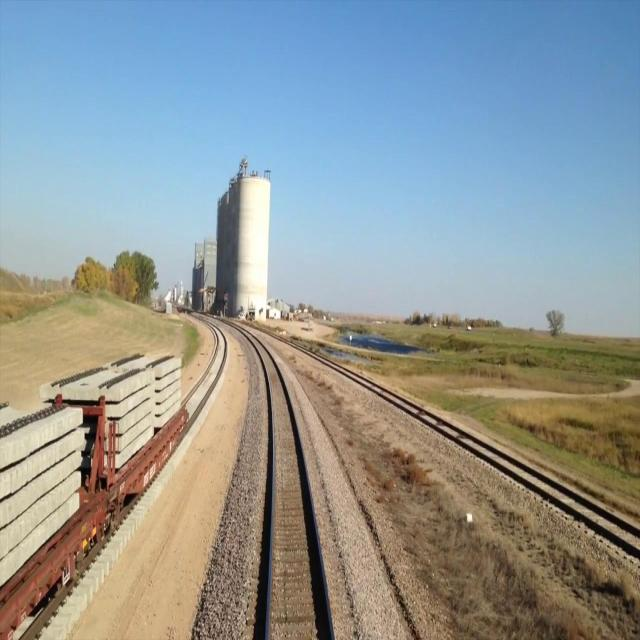rail-track: (394, 397, 640, 545), (250, 336, 330, 639), (183, 331, 223, 412)
